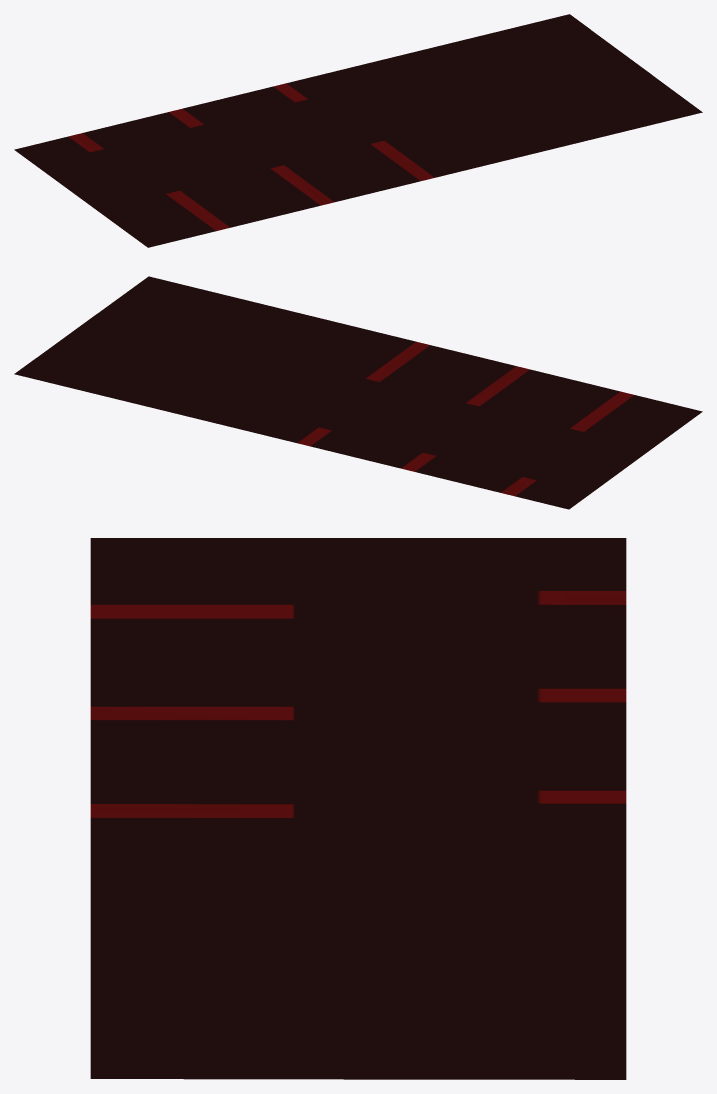
The picture shows the model from 3 angles, top to bottom: view 1: azimuth 30°, elevation 25°; view 2: azimuth 150°, elevation 25°; view 3: azimuth 270°, elevation 25°; orthographic projection. The views are drawn at different scales.
Parts seen in each view (by area): view 1: Plane.003; view 2: Plane.003; view 3: Plane.003.
Boxes of the visible parts, <box> form: Plane.003: <box>14,14,702,247</box>; Plane.003: <box>14,276,702,509</box>; Plane.003: <box>90,538,626,1079</box>.
Bounding box in the file's own units: 6623 × 15851 × 9.2e-05.
